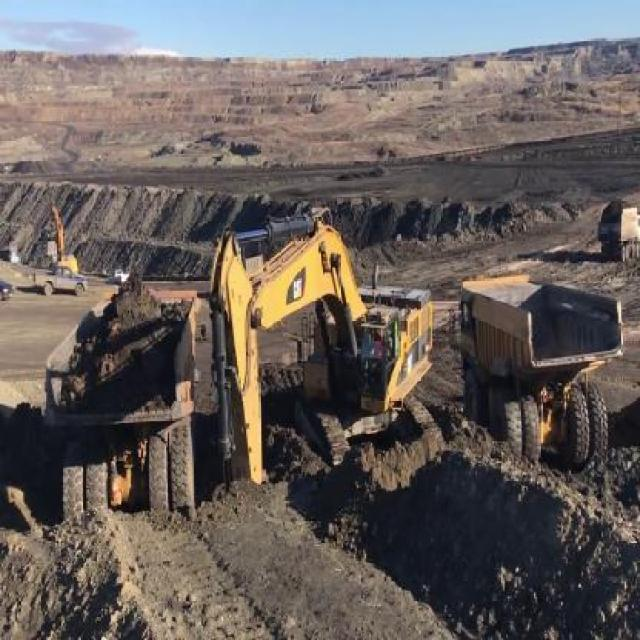dump_truck: (32, 274, 200, 518), (452, 272, 618, 468), (598, 198, 639, 260)
excavator: (194, 206, 437, 488), (47, 207, 76, 265)
